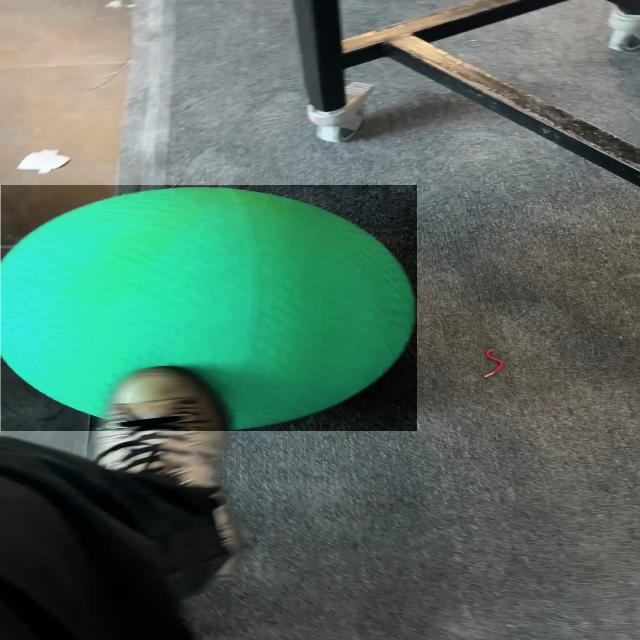Algae: (1, 185, 417, 431)
